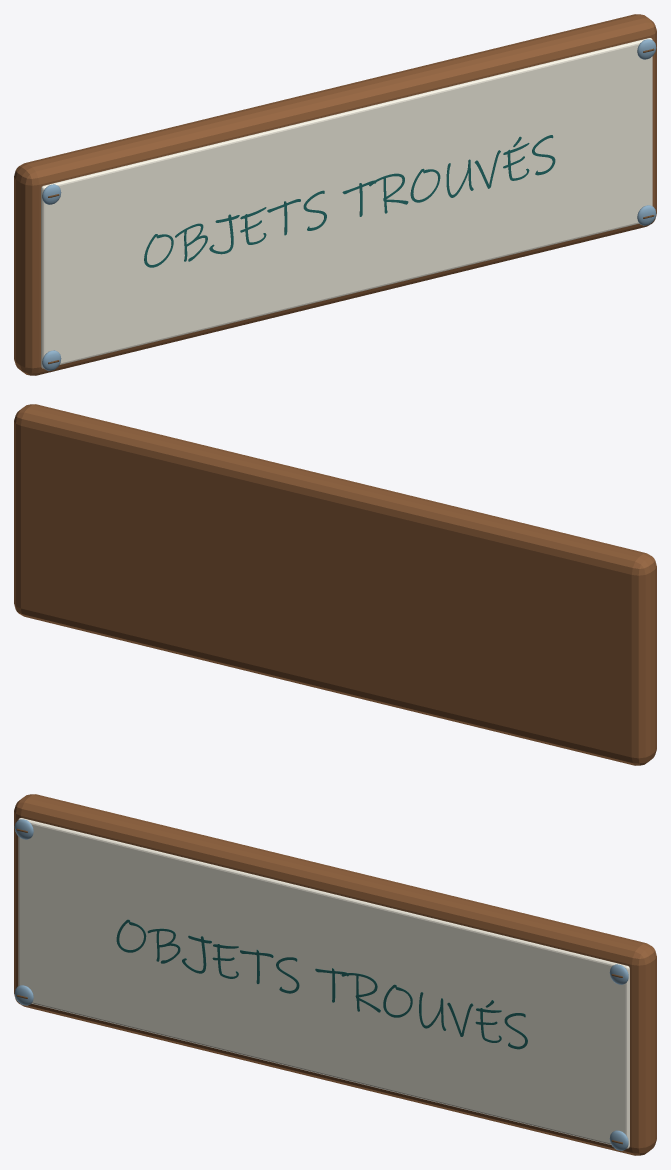
File: found_sign.glb
3 views of the same model, one above another, from view 1: azimuth 30°, elevation 25°; view 2: azimuth 150°, elevation 25°; view 3: azimuth 330°, elevation 25° (orthographic).
Parts seen in each view (by area): view 1: Sign_cream_face, Sign_timber, Flat_sign; view 2: Sign_timber; view 3: Sign_cream_face, Sign_timber, Flat_sign.
Part boxes in pixels (bbox=[...]): Sign_cream_face: bbox=[41, 38, 652, 368]; Sign_timber: bbox=[14, 14, 656, 375]; Flat_sign: bbox=[144, 135, 555, 267]; Sign_timber: bbox=[14, 404, 656, 765]; Sign_cream_face: bbox=[18, 818, 629, 1148]; Sign_timber: bbox=[14, 794, 656, 1155]; Flat_sign: bbox=[116, 919, 527, 1049].
Bounding box in the file's own units: 0.8 × 0.25 × 0.0554.
